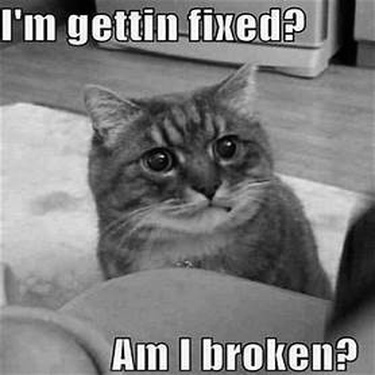cat: (79, 60, 337, 304)
